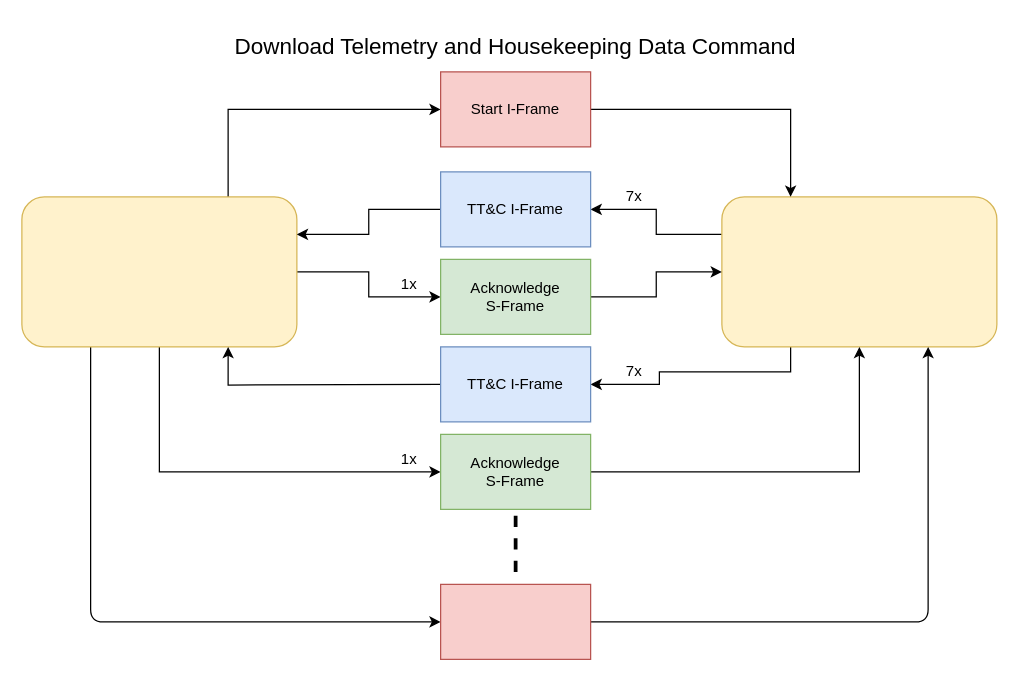
The diagram is 1019 pixels wide and 681 high, and some of its shapes have lost their labels. The centre of each missing label's shape, as x and y in pixels:
End Command Transmission S-Frame: the point at 515,621
Primary Station Western / Other Ground Station: the point at 159,271
Secondary Station Ukpik-1: the point at 859,271
